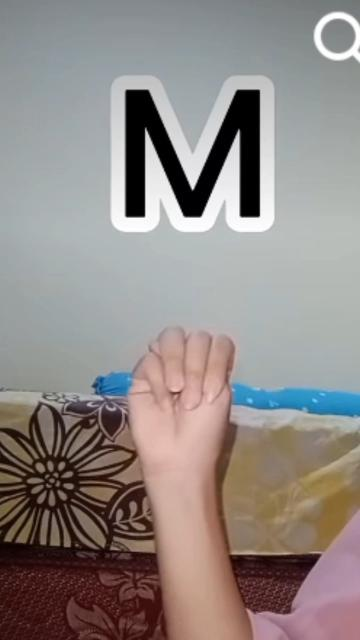M: (128, 323, 236, 481)
